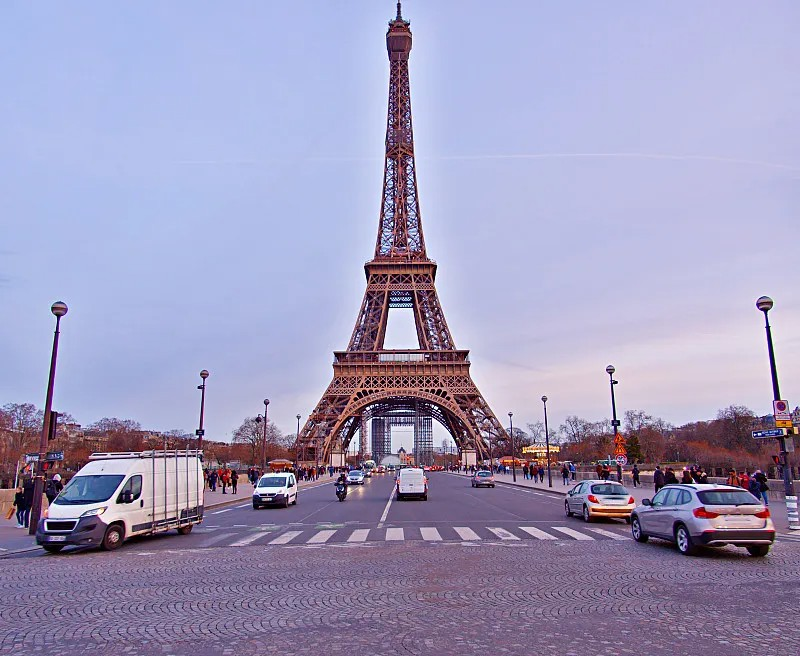Eiffel: (286, 1, 521, 464)
